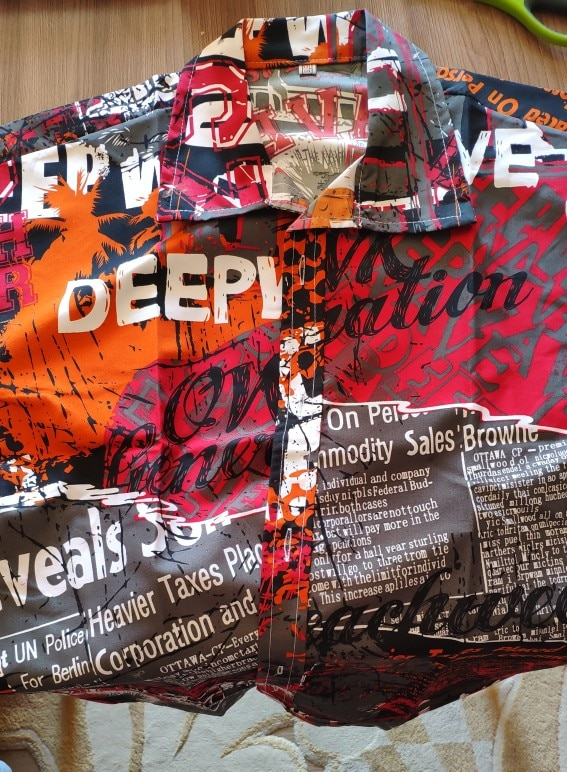shirts: (51, 25, 567, 674)
